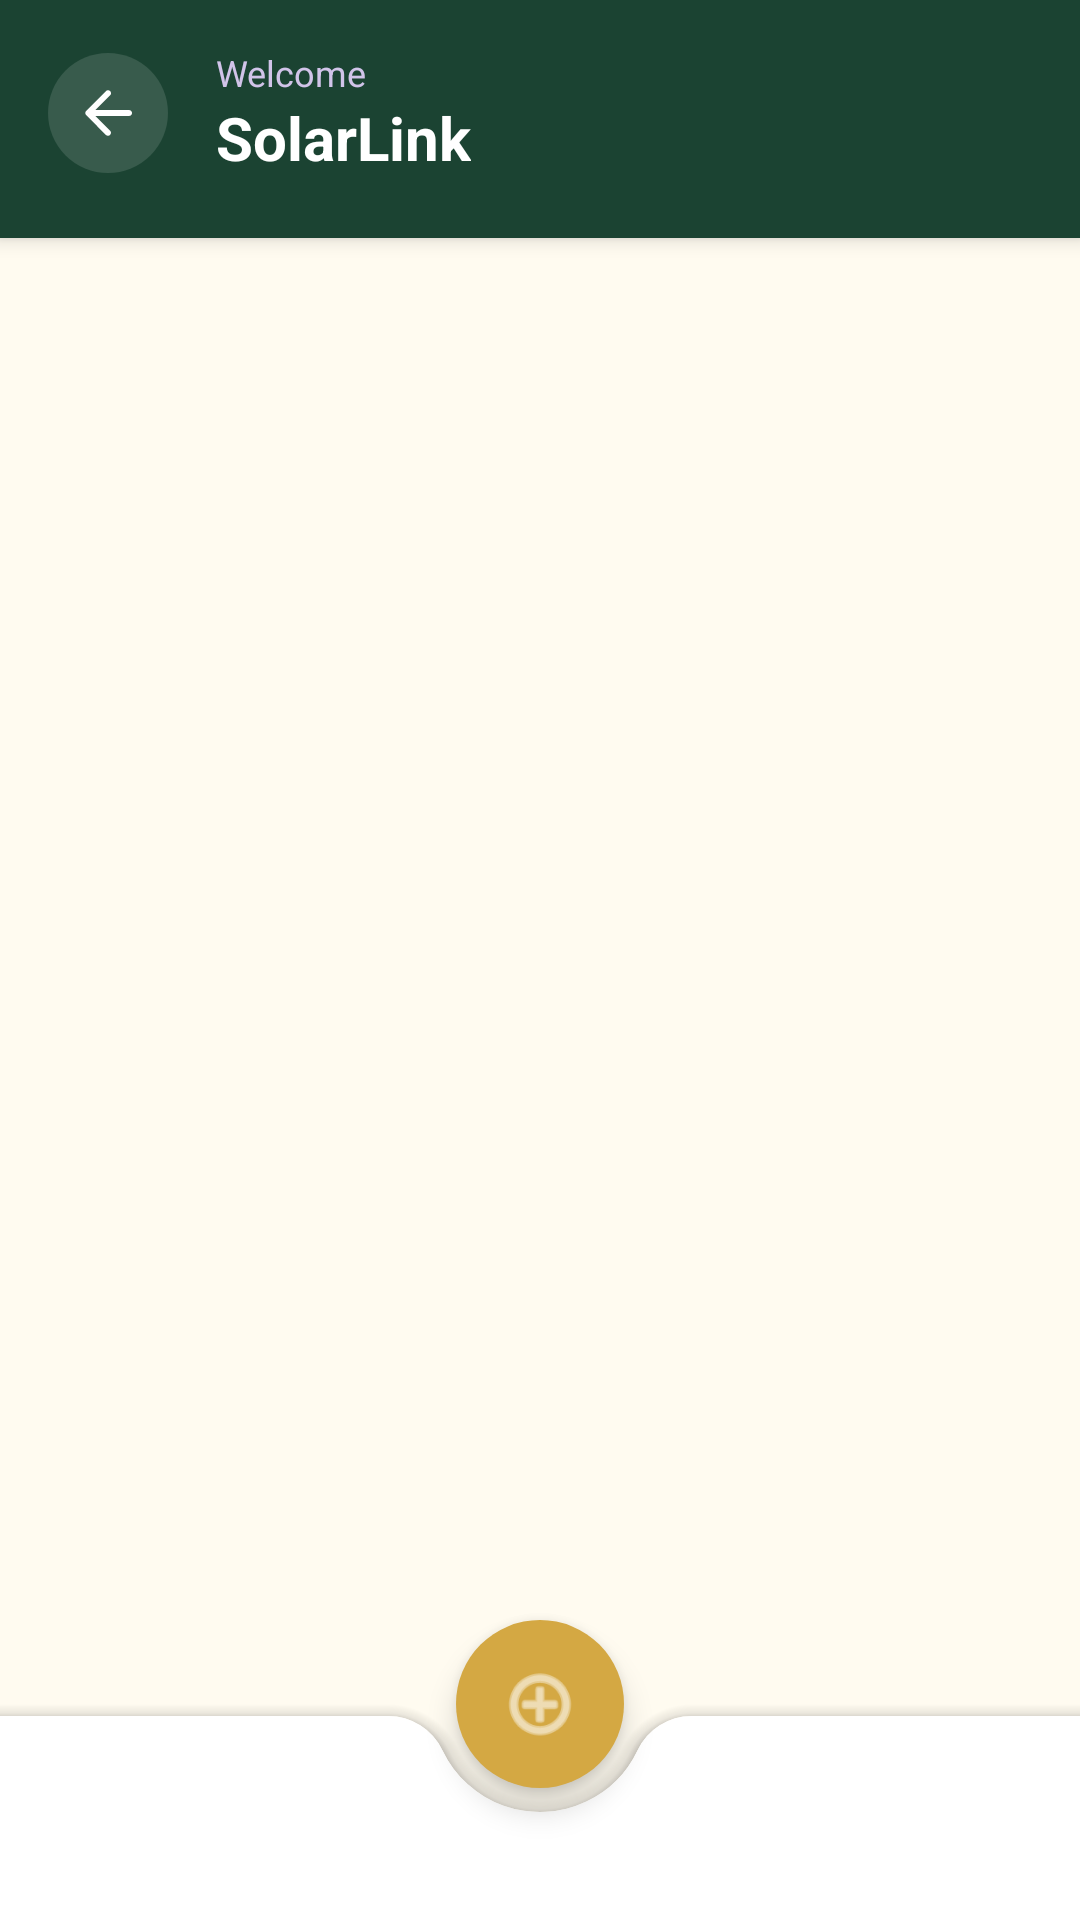

Where to tap for icons on this 1080*1920 app screen, as point (x, y):
Action: point (540, 1716)
